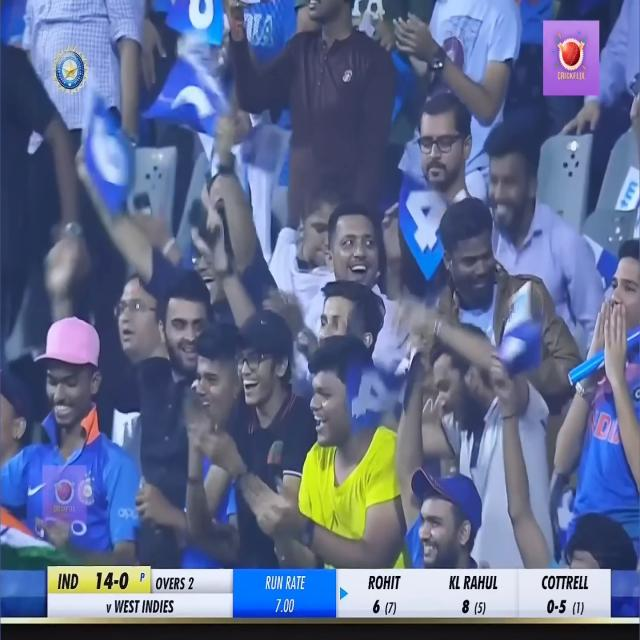partially_visible: (606, 159, 640, 232)
